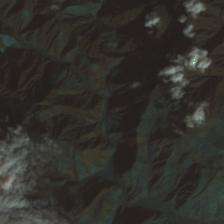landslides: (116, 120, 134, 128)
